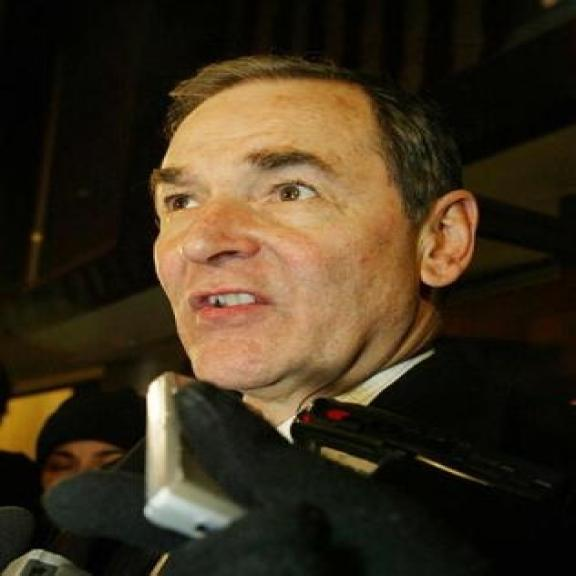face: (154, 75, 480, 398)
